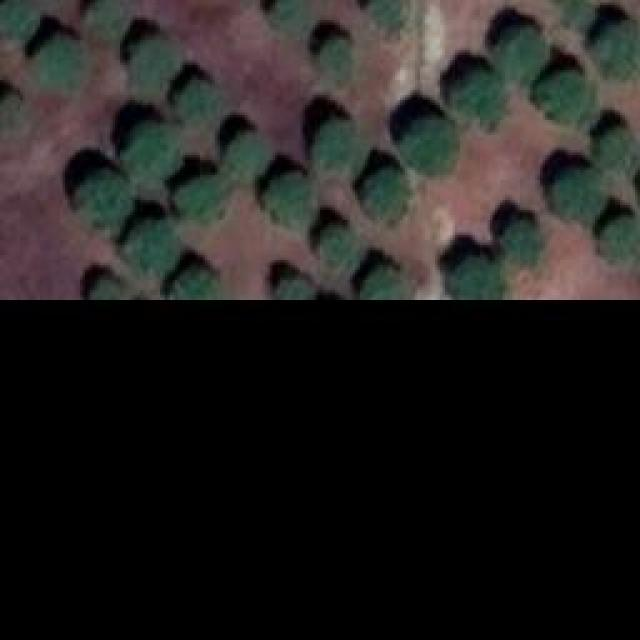Tree: (125, 120, 180, 180), (540, 70, 593, 128), (80, 170, 133, 228), (405, 117, 458, 175), (260, 173, 315, 228), (550, 168, 605, 223), (35, 35, 88, 90), (125, 218, 178, 273), (312, 120, 360, 178), (498, 25, 553, 75), (595, 18, 640, 78), (363, 170, 416, 220), (455, 70, 505, 120), (175, 178, 228, 221), (450, 258, 503, 298), (595, 128, 640, 173), (225, 133, 268, 178), (500, 217, 540, 265), (597, 217, 640, 260), (83, 0, 128, 40), (130, 40, 170, 85), (313, 220, 353, 265), (173, 78, 213, 121), (362, 263, 410, 298), (0, 0, 40, 40), (325, 35, 358, 83), (170, 268, 213, 298), (365, 0, 405, 30), (268, 0, 301, 28), (275, 275, 310, 298), (547, 0, 585, 20), (88, 280, 123, 298), (0, 97, 22, 124)
